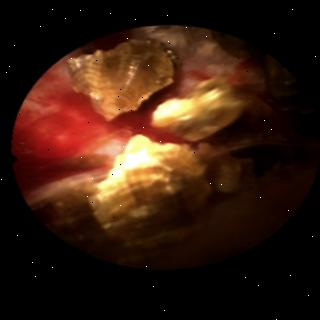stone: (50, 135, 269, 244), (69, 39, 172, 119), (151, 78, 244, 139), (266, 55, 302, 102)
